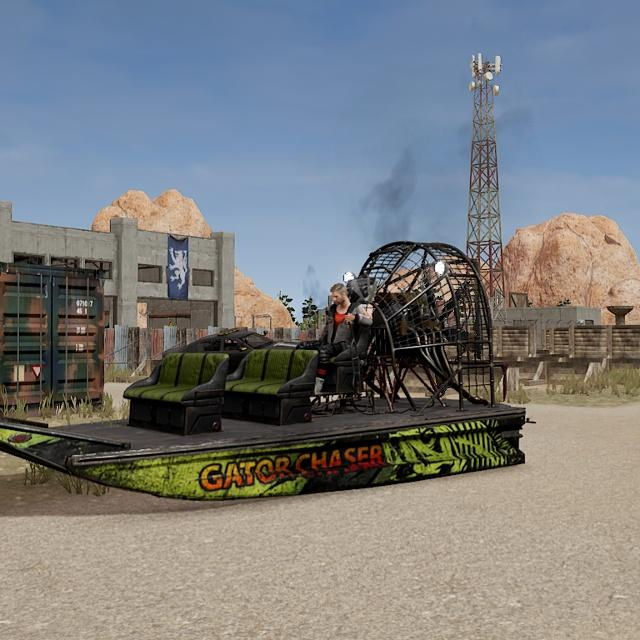head: (330, 282, 348, 307)
people: (296, 282, 375, 396)
